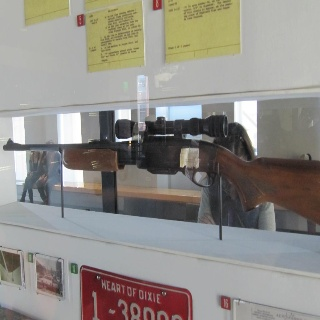rifle: (2, 115, 320, 227)
